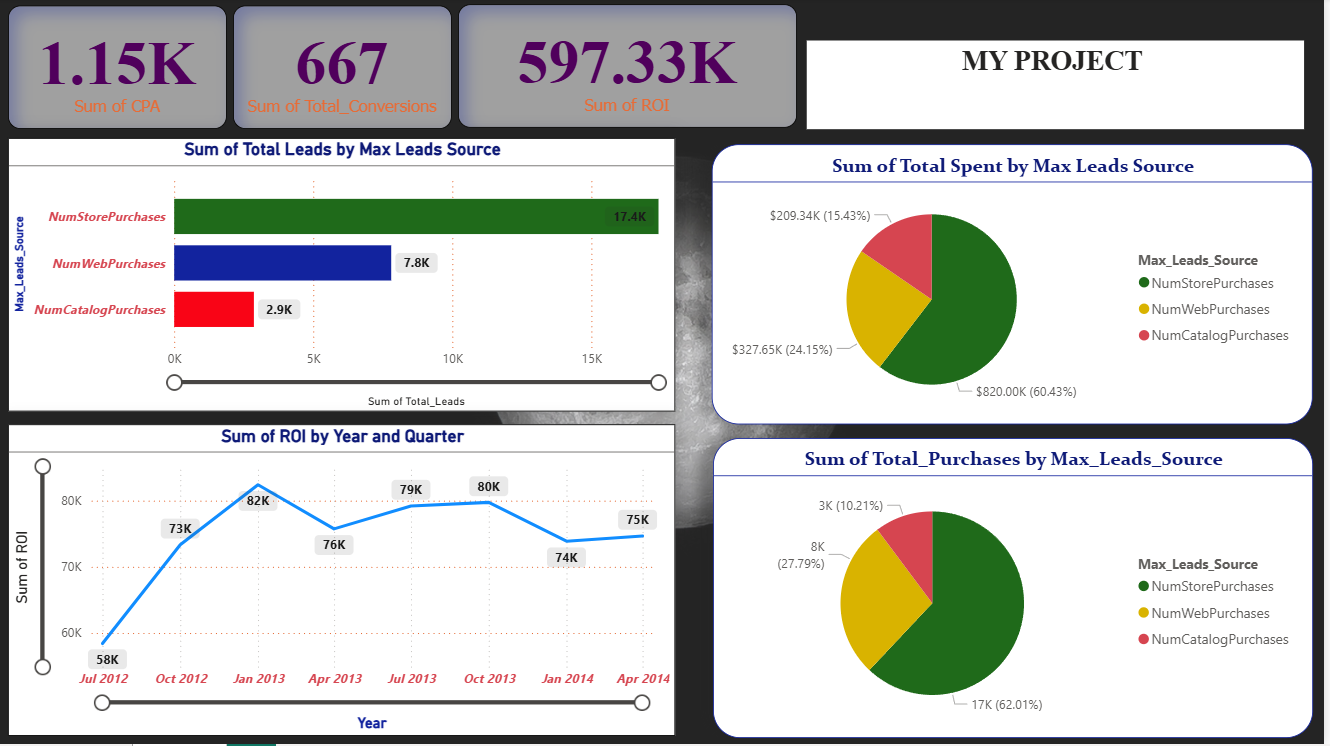

This screenshot's page, from the dashboard's own definition file:
{"tool":"powerbi","page":{"name":"Page 1","canvas":[1280,720],"ordinal":0},"visuals":[{"type":"card","fields":{"Values":["Sum(updated_last.ROI)"]},"box":[444,6,326.9,119.4],"z":0},{"type":"card","fields":{"Values":["Sum(updated_last.CPA)"]},"box":[9.7,7.2,211.1,119.4],"z":1000},{"type":"card","fields":{"Values":["Sum(updated_last.Total_Conversions)"]},"box":[226.8,7.2,211.1,119.4],"z":2000},{"type":"barChart","title":"Sum of Total Leads by Max Leads Source","fields":{"Category":["updated_last.Max_Leads_Source"],"Y":["Sum(updated_last.Total_Leads)"]},"box":[9.7,135.1,644.2,264.2],"z":3000},{"type":"lineChart","fields":{"Category":["updated_last.Dt_Customer.Variation.Date Hierarchy.Year","updated_last.Dt_Customer.Variation.Date Hierarchy.Quarter","updated_last.Dt_Customer.Variation.Date Hierarchy.Month","updated_last.Dt_Customer.Variation.Date Hierarchy.Day"],"Y":["Sum(updated_last.ROI)"]},"box":[9.7,411.4,644.2,300.4],"z":4000},{"type":"pieChart","fields":{"Category":["updated_last.Max_Leads_Source"],"Y":["Sum(updated_last.Total_Purchases)"]},"box":[690.1,424.7,579.1,289.5],"z":5000},{"type":"pieChart","title":"Sum of Total Spent by Max Leads Source","fields":{"Category":["updated_last.Max_Leads_Source"],"Y":["Sum(updated_last.Total_Spent)"]},"box":[688.9,141.2,580.3,270.2],"z":6000},{"type":"textbox","box":[780.6,41,480.2,85.7],"z":6001}]}

Visuals, with their boxes in screenshot pixels (x1, y1, x2, y2), scaled from the page's 1280x720 canvas onto the 1330x746 screenshot:
card - Sum(updated_last.ROI): box=[461, 6, 801, 130]
card - Sum(updated_last.CPA): box=[10, 7, 229, 131]
card - Sum(updated_last.Total_Conversions): box=[236, 7, 455, 131]
"Sum of Total Leads by Max Leads Source" barChart: box=[10, 140, 679, 414]
lineChart - updated_last.Dt_Customer.Variation.Date Hierarchy.Year x updated_last.Dt_Customer.Variation.Date Hierarchy.Quarter: box=[10, 426, 679, 738]
pieChart - updated_last.Max_Leads_Source x Sum(updated_last.Total_Purchases): box=[717, 440, 1319, 740]
"Sum of Total Spent by Max Leads Source" pieChart: box=[716, 146, 1319, 426]
textbox: box=[811, 42, 1310, 131]
